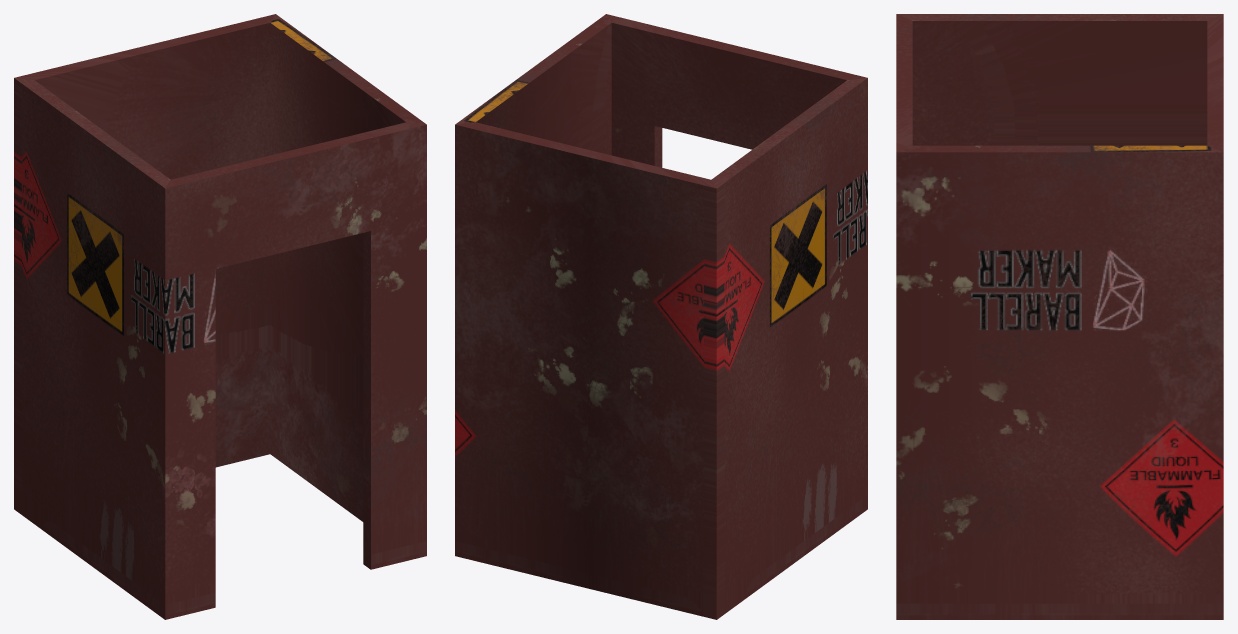
File: CS_elevator_wall.FBX
The picture shows the model from 3 angles, left to right: view 1: azimuth 30°, elevation 25°; view 2: azimuth 150°, elevation 25°; view 3: azimuth 270°, elevation 25°; orthographic projection. The views are drawn at different scales.
Parts seen in each view (by area): view 1: SM_elevator_wall; view 2: SM_elevator_wall; view 3: SM_elevator_wall.
Part boxes in pixels (x1,y1,x2,y2): SM_elevator_wall: (14, 14, 426, 619); SM_elevator_wall: (455, 14, 867, 619); SM_elevator_wall: (896, 14, 1223, 619).
Size of the model in its own units: 200 by 200 by 315.
